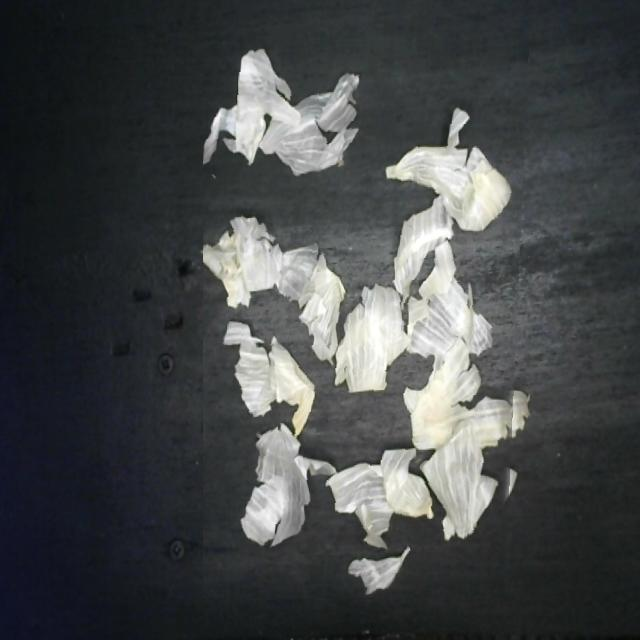biodegradable: (203, 37, 529, 598)
